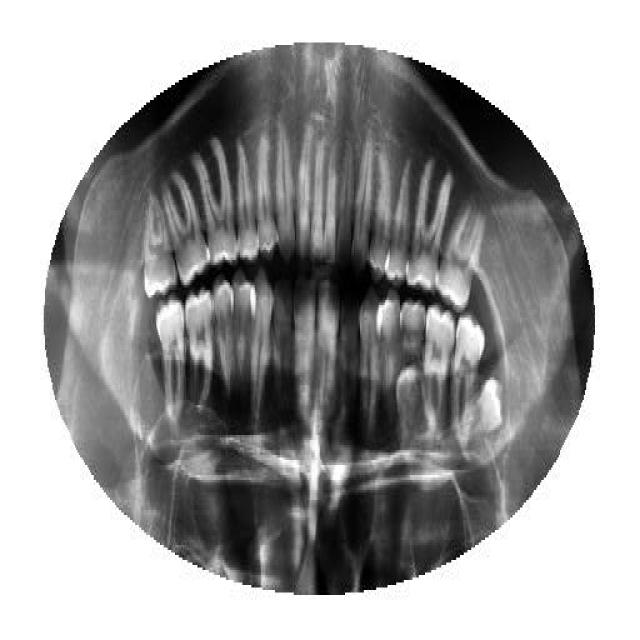Impacted Tooth: (460, 377, 505, 445)
